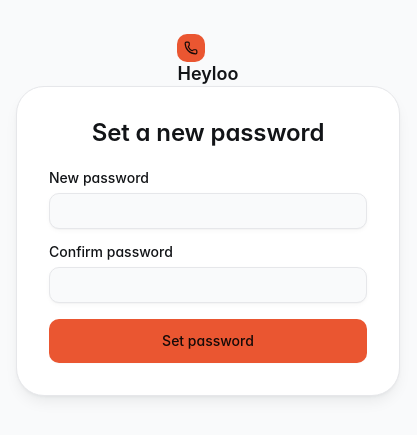
Test: /reset-password/confirm (AUTH-10, MAP-20) › maps a same-password rejection to a specific message, announced as an alert
Type "a-new-password" into the password field labelled "New password".
click(208, 211); type("a-new-password")  # box [49,193,367,229]
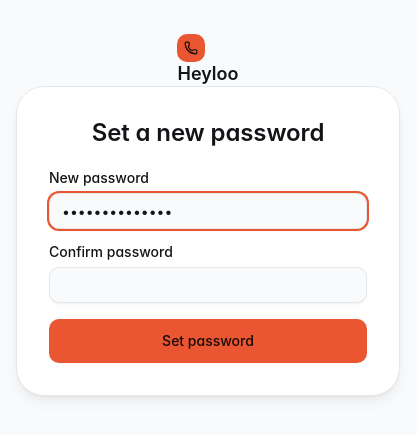
Type "a-new-password" into the password field labelled "Confirm password".
click(208, 285); type("a-new-password")  # box [49,267,367,303]
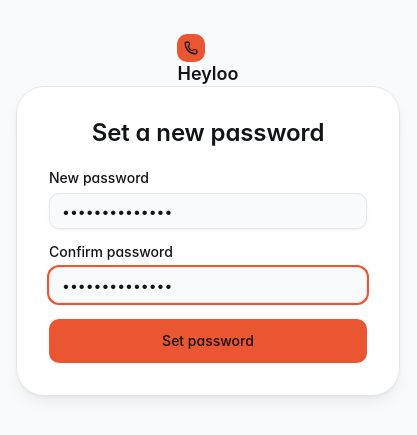
Click the button "Set password".
click(208, 341)  # box [49,319,367,363]
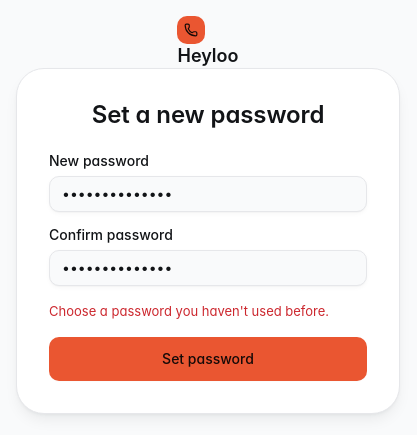
expect the message shows "haven't used before": met, box [49,303,329,319]
